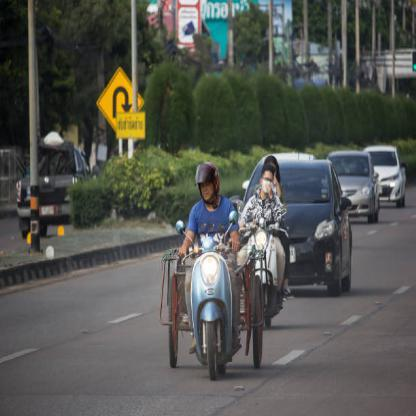Motorcycle: (191, 240, 237, 377)
